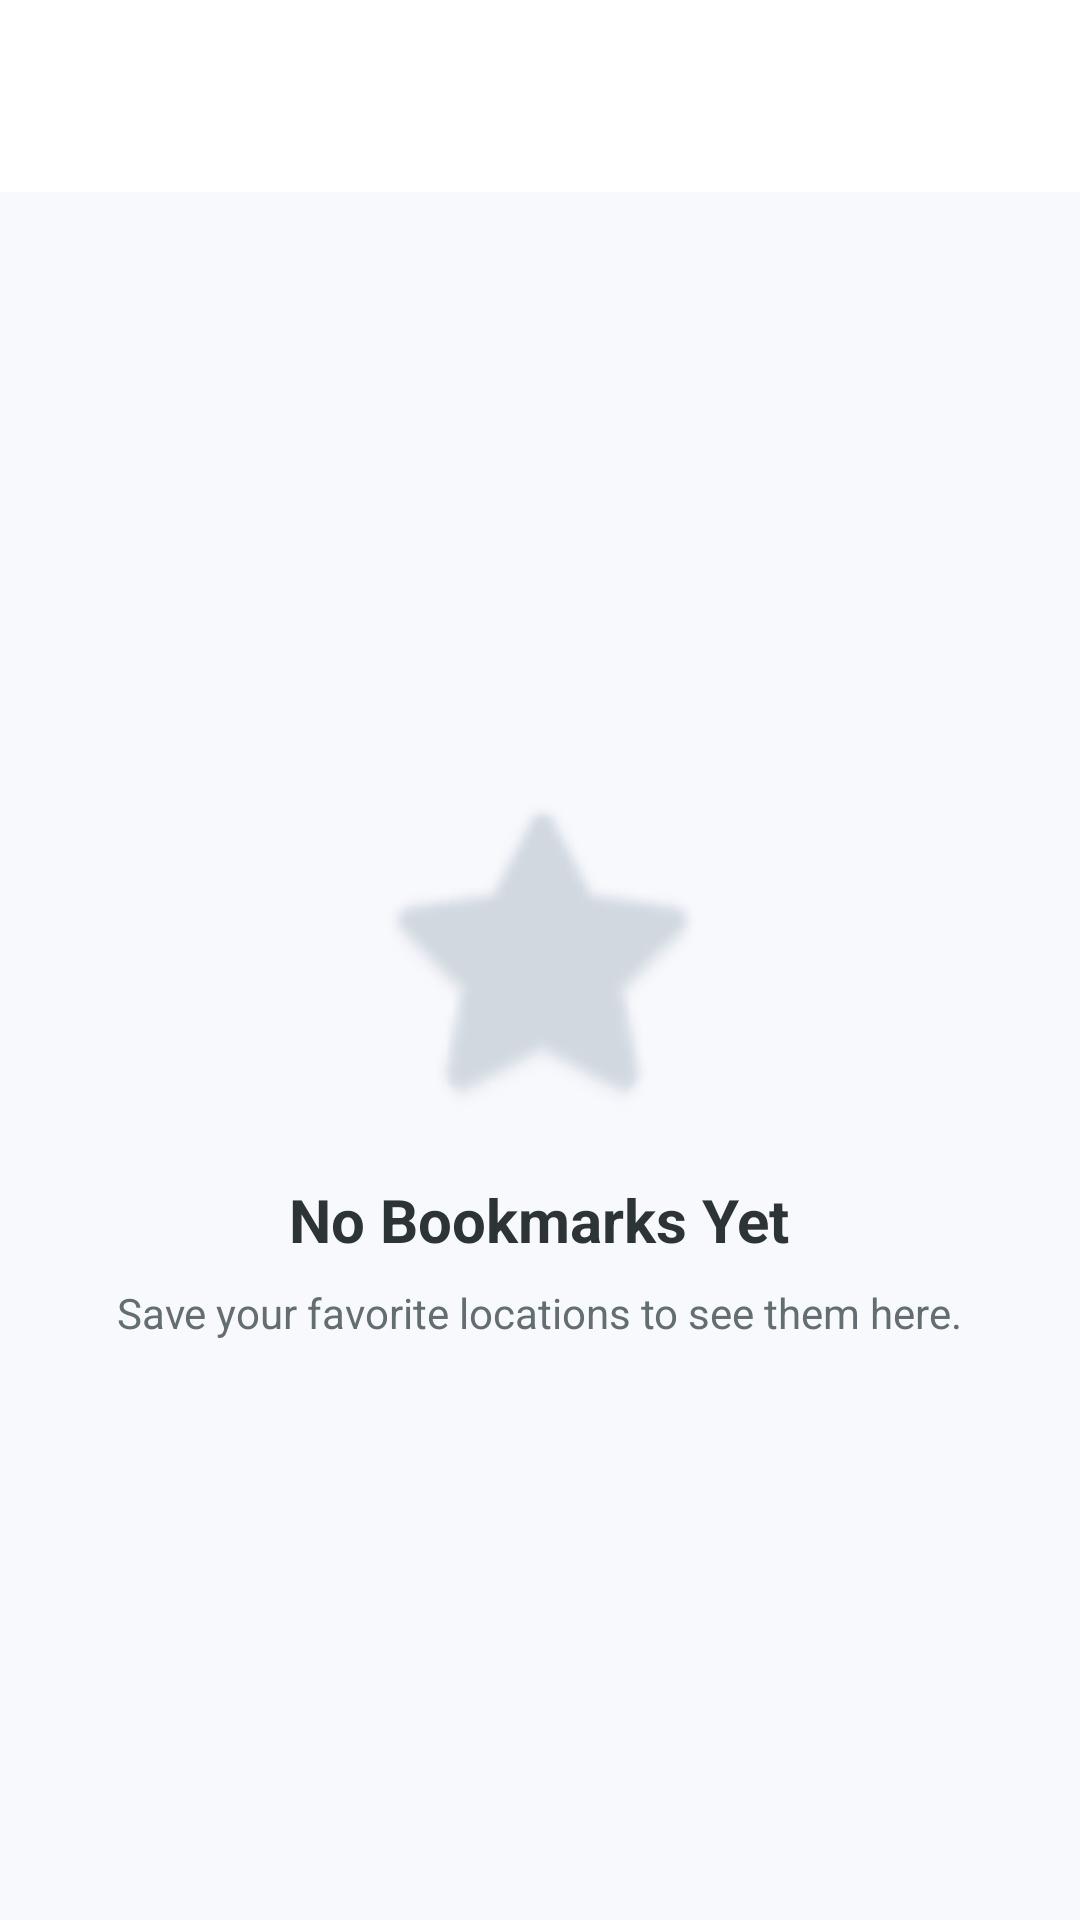

Locate icon controls on the screen. Image size 1080x1920, boxes as Rect(x1, y1, x2, y2).
star off: Rect(401, 816, 684, 1088)
